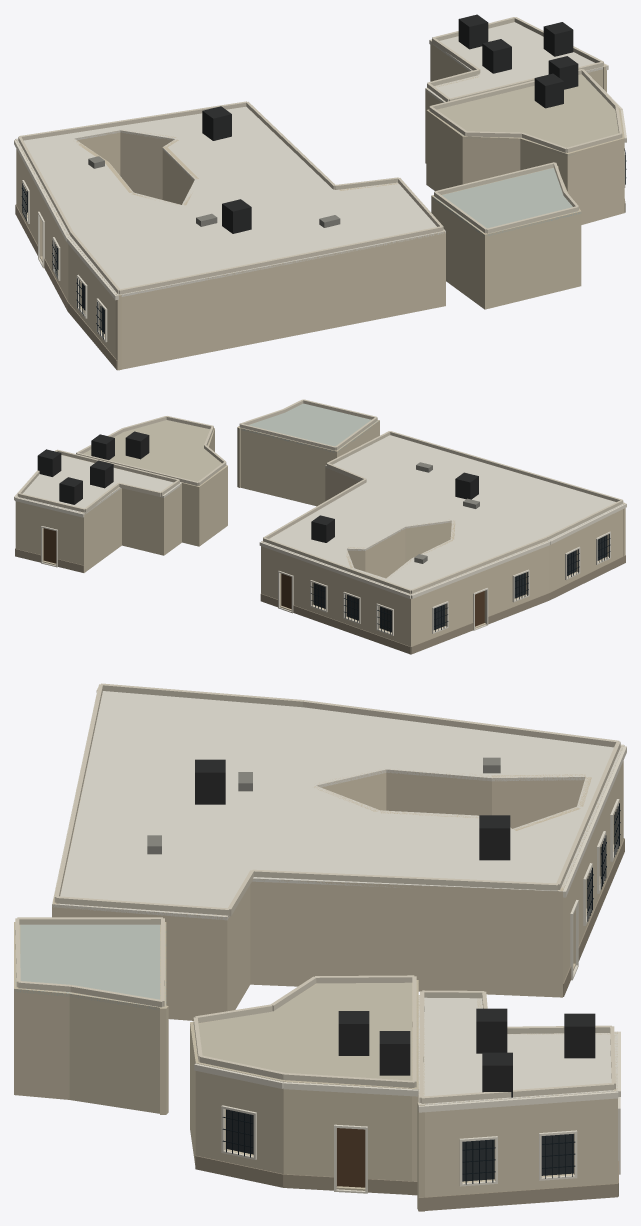
The picture shows the model from 3 angles, top to bottom: view 1: azimuth 30°, elevation 25°; view 2: azimuth 150°, elevation 25°; view 3: azimuth 270°, elevation 25°; orthographic projection. The views are drawn at different scales.
Visible parts, largest first — view 1: edificio; view 2: edificio; view 3: edificio.
Boxes of the visible parts, <box> form: edificio: <box>14,14,626,370</box>; edificio: <box>14,399,626,654</box>; edificio: <box>14,683,626,1211</box>.
Size of the model in its own units: 33.91 by 5.2 by 20.91.
